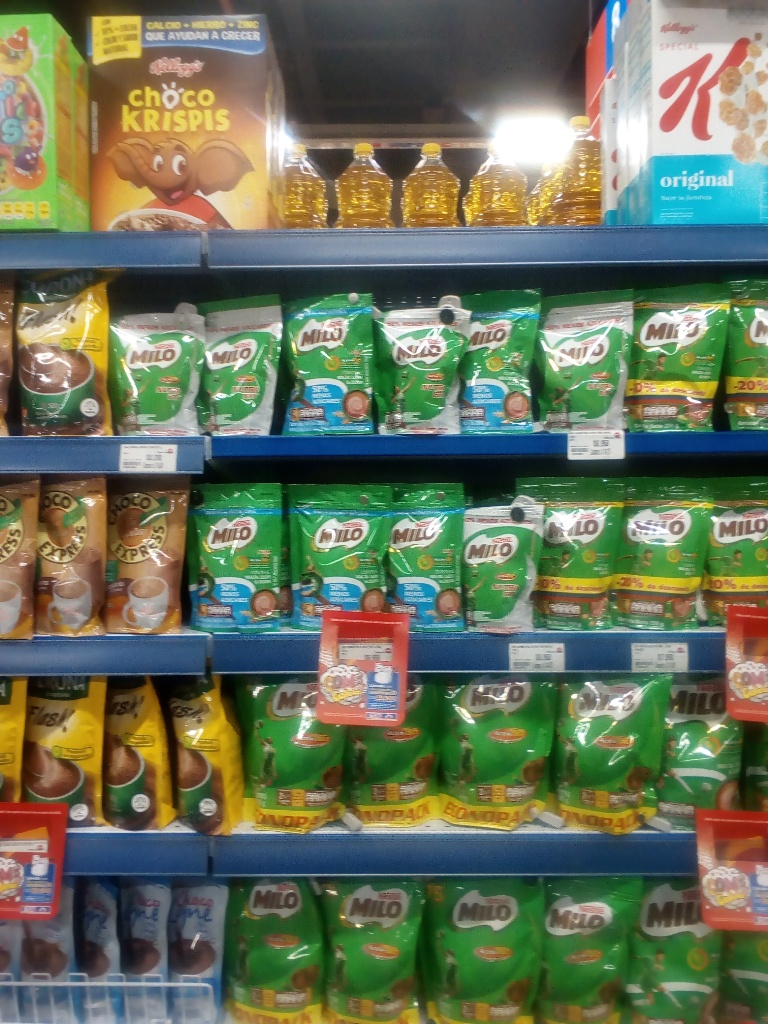COL0170203DYP25000: (628, 285, 720, 431)
COL0170205DYP20000: (279, 289, 371, 435)
